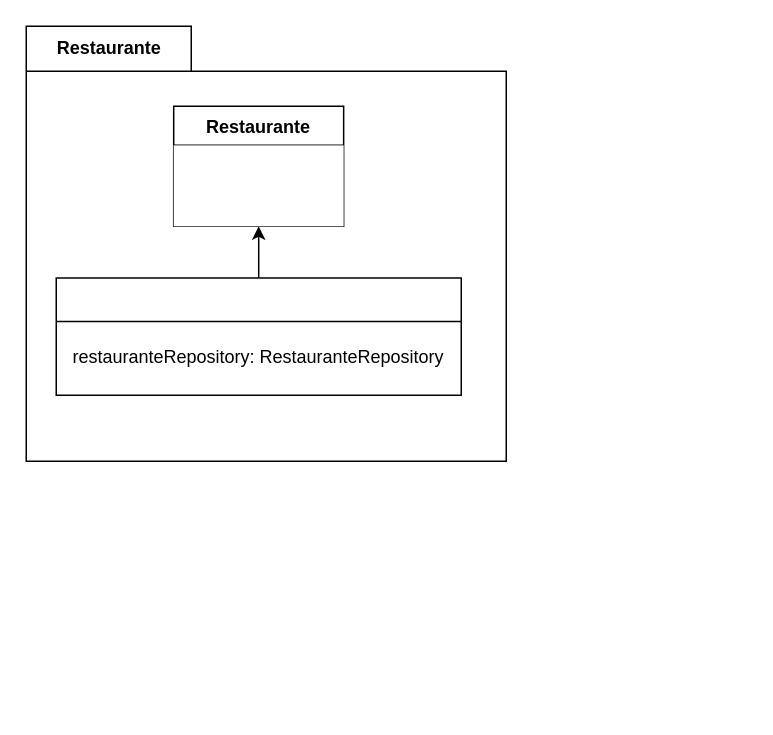
Image size: 773x735. Some labels were removed from this diagram. The box of each missing label's shape, as (x1, y1, x2, y2) in pixels:
id: Long nome: String descricao: String: (173, 145, 343, 226)
RestauranteService: (55, 277, 461, 395)
